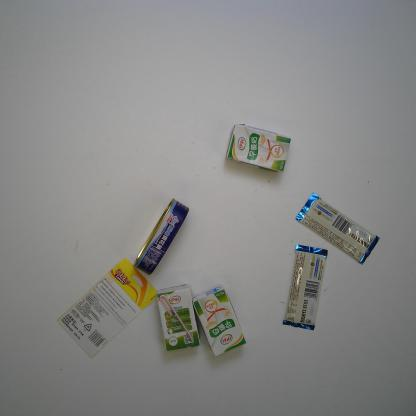Canned Food: (132, 197, 190, 277)
Chocolate: (294, 191, 381, 266), (281, 243, 329, 332)
Milk: (192, 284, 248, 358), (224, 123, 292, 173), (154, 283, 202, 353)
Stationery: (55, 255, 158, 360)
